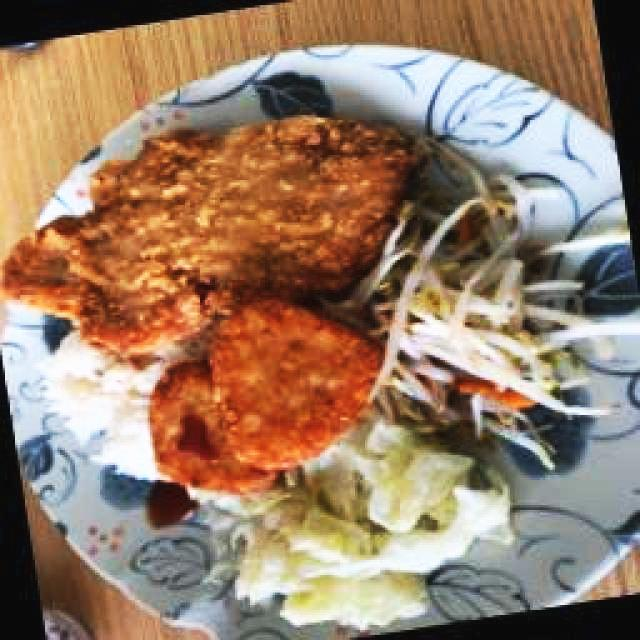Hashbrown: (208, 300, 376, 467), (152, 361, 276, 488)
chinese_cabbage: (228, 489, 493, 618)
fried_chicken: (3, 114, 413, 349)
mung_bean_sprouts: (417, 123, 551, 439)
